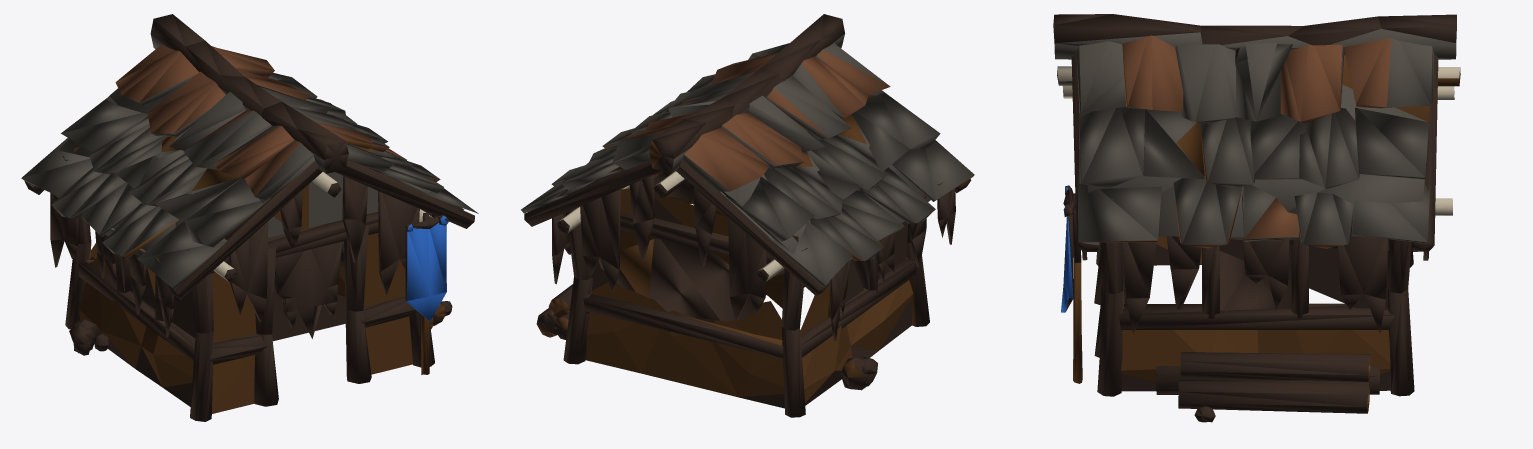
Rendered from building.shade_den.glb.
3 views of the same model, side by side, from view 1: azimuth 30°, elevation 25°; view 2: azimuth 150°, elevation 25°; view 3: azimuth 270°, elevation 25° (orthographic). The views are drawn at different scales.
Visible parts, largest first — view 1: asset; view 2: asset; view 3: asset.
Part boxes in pixels (x1=…): asset: x1=21, y1=14, x2=478, y2=421; asset: x1=521, y1=14, x2=974, y2=417; asset: x1=1053, y1=14, x2=1460, y2=422.
Size of the model in its own units: 2.9 by 1.91 by 2.9.
